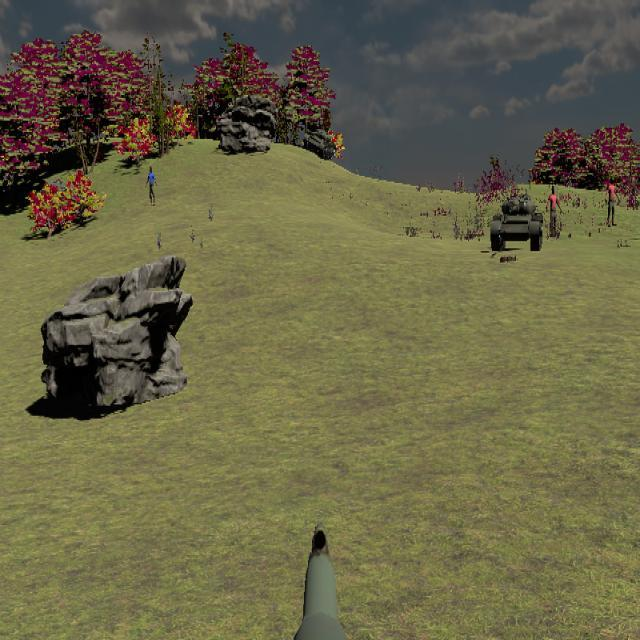Human: (545, 185, 562, 239), (605, 176, 619, 227)
Tank: (490, 195, 543, 253), (303, 125, 337, 161)
